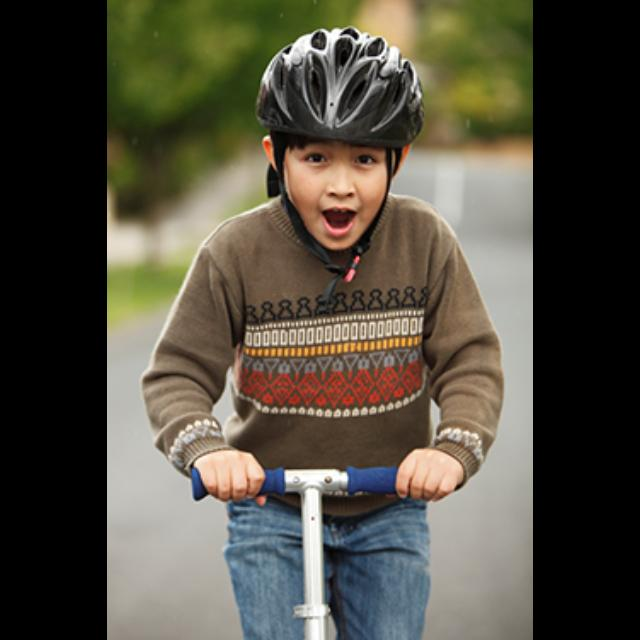With Helmet: (247, 20, 433, 266)
